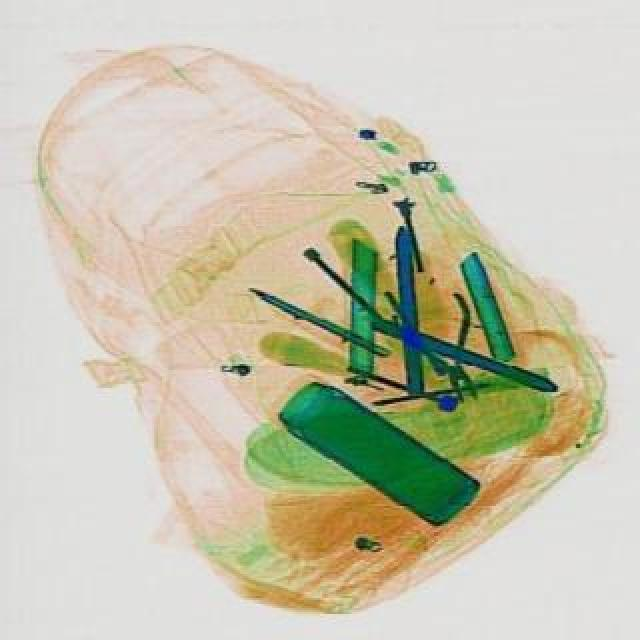wrench: (382, 266, 498, 414)
